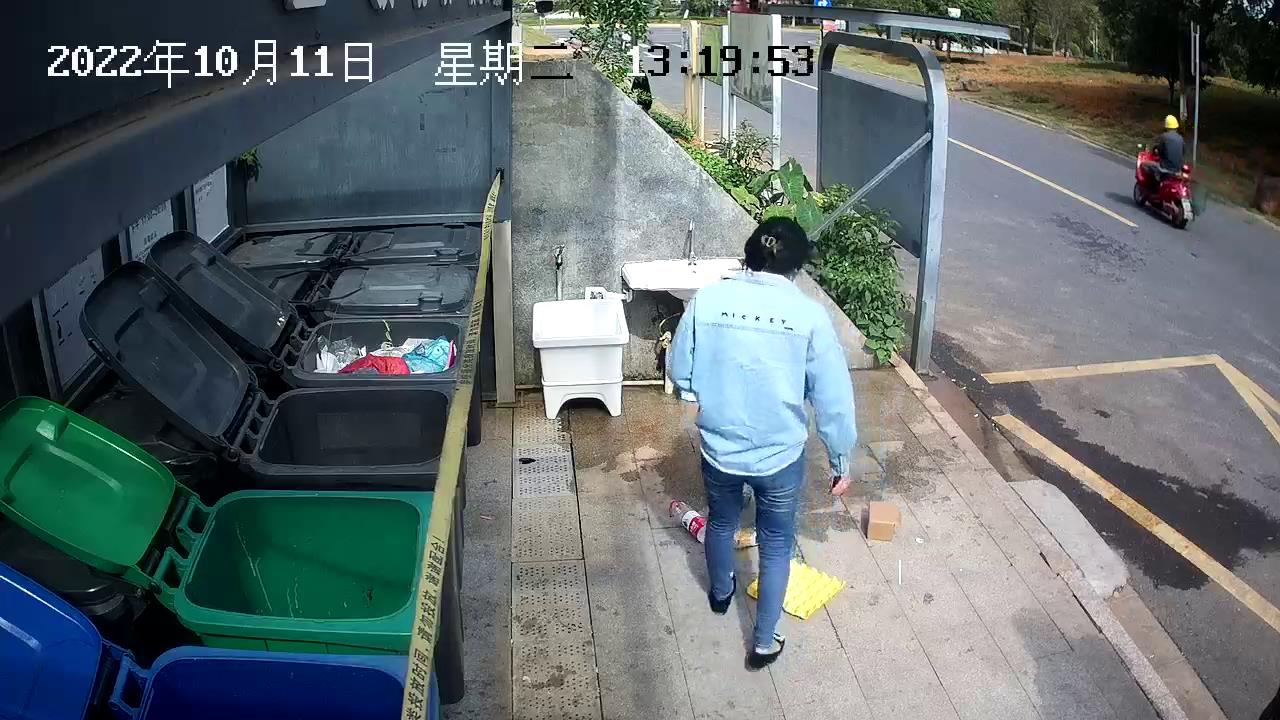suliaozhipin: (665, 494, 711, 549)
worker: (660, 213, 863, 672)
zhizhipin: (741, 551, 854, 623), (862, 494, 909, 547)
